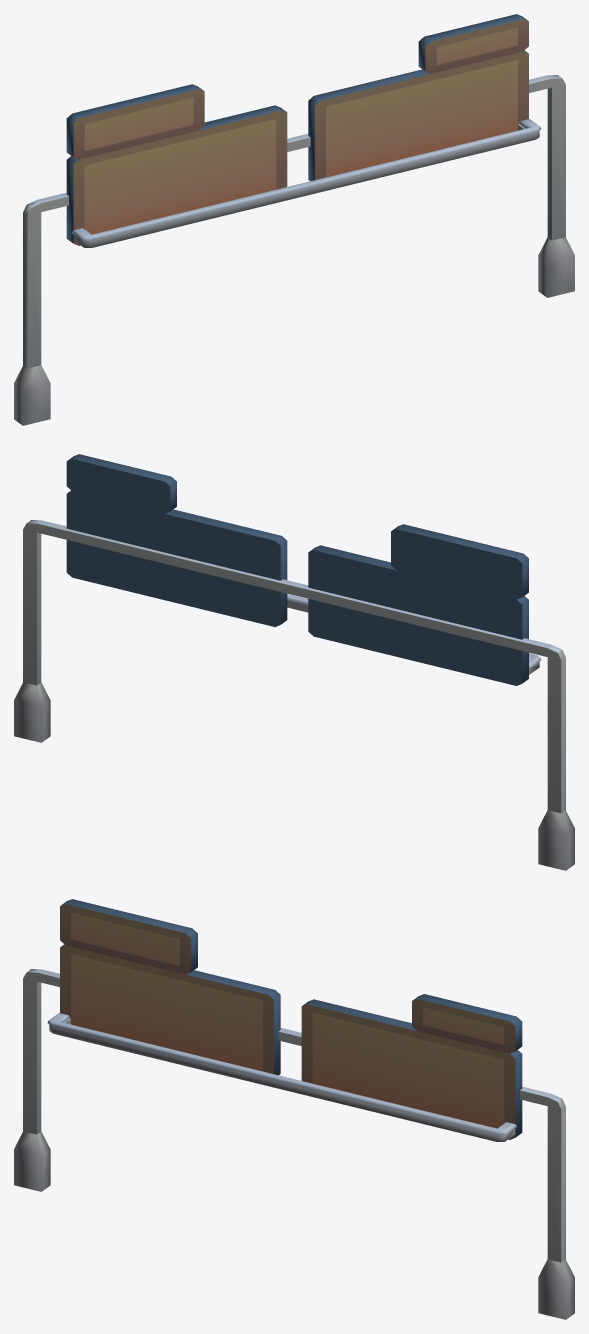
Rendered from gantry_sign_detailed.glb.
The picture shows the model from 3 angles, top to bottom: view 1: azimuth 30°, elevation 25°; view 2: azimuth 150°, elevation 25°; view 3: azimuth 330°, elevation 25°; orthographic projection.
Parts seen in each view (by area): view 1: Prop, Panel_0, Panel_1; view 2: Panel_0, Panel_1, Prop; view 3: Prop, Panel_0, Panel_1.
Part boxes in pixels (x1=…): Prop: x1=14, y1=19, x2=574, y2=425; Panel_0: x1=66, y1=84, x2=286, y2=243; Panel_1: x1=308, y1=14, x2=528, y2=181; Panel_0: x1=308, y1=524, x2=528, y2=685; Panel_1: x1=66, y1=454, x2=287, y2=626; Prop: x1=14, y1=520, x2=574, y2=870; Prop: x1=14, y1=904, x2=574, y2=1319; Panel_0: x1=60, y1=899, x2=280, y2=1075; Panel_1: x1=302, y1=994, x2=522, y2=1137.
Size of the model in its own units: 16 by 8.2 by 1.2.
